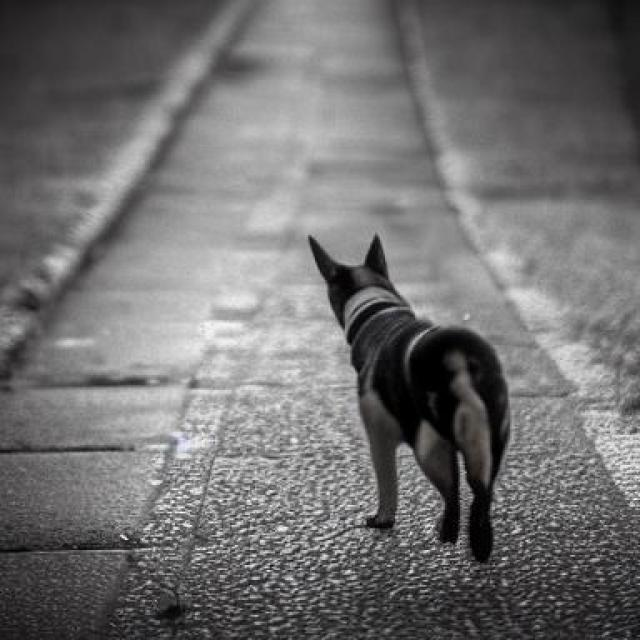Dog: (309, 233, 511, 561)
